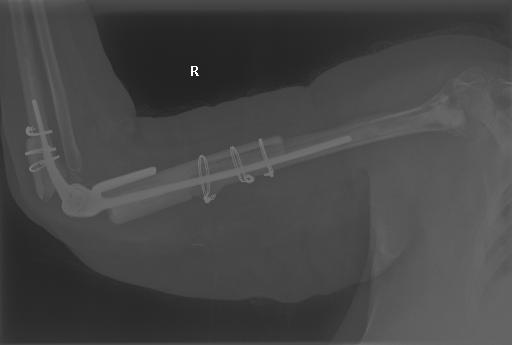implant: (50, 155, 170, 230), (21, 94, 82, 221), (187, 138, 283, 204)
